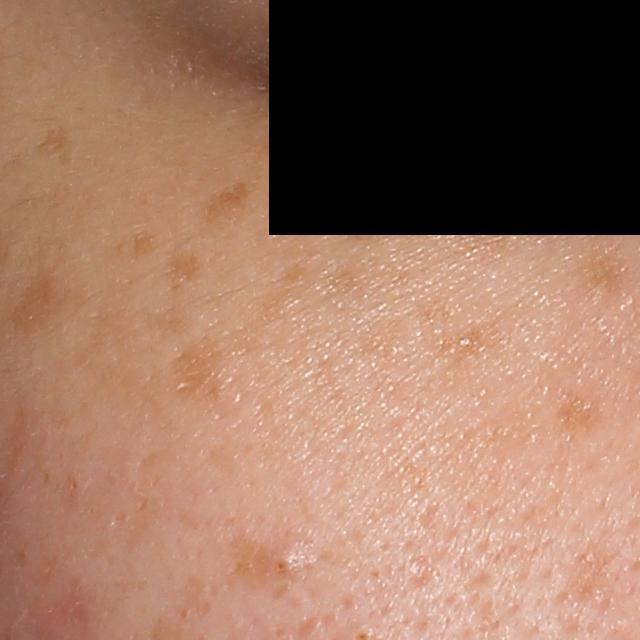comedo: (274, 550, 303, 578)
melasma: (162, 334, 233, 413), (3, 265, 72, 345), (228, 537, 300, 600), (566, 244, 636, 296), (196, 175, 258, 231), (428, 321, 506, 365), (546, 393, 607, 437), (158, 246, 206, 299), (32, 123, 79, 173), (128, 227, 163, 264)
